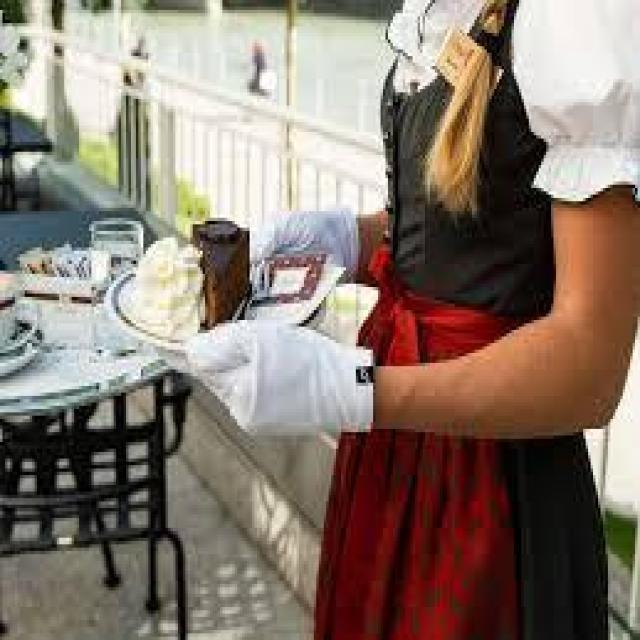apron: (182, 319, 371, 444), (243, 204, 356, 276)
